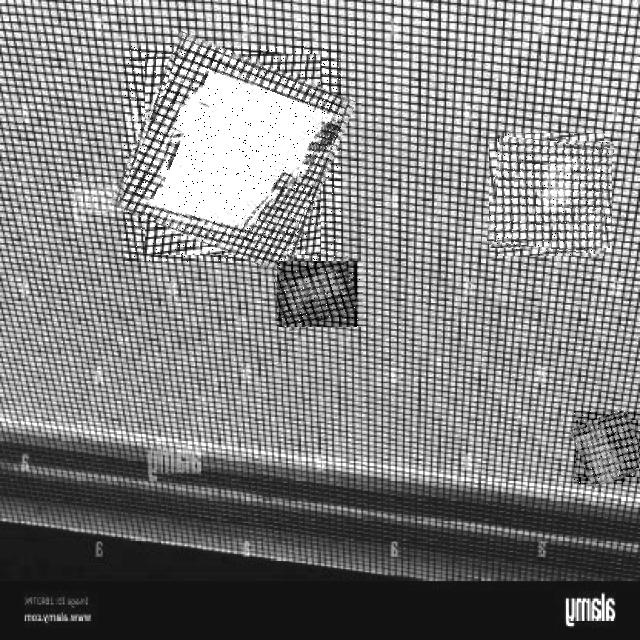anomaly-fence: (124, 46, 342, 262), (490, 134, 611, 255), (278, 261, 362, 327), (574, 411, 640, 484)
